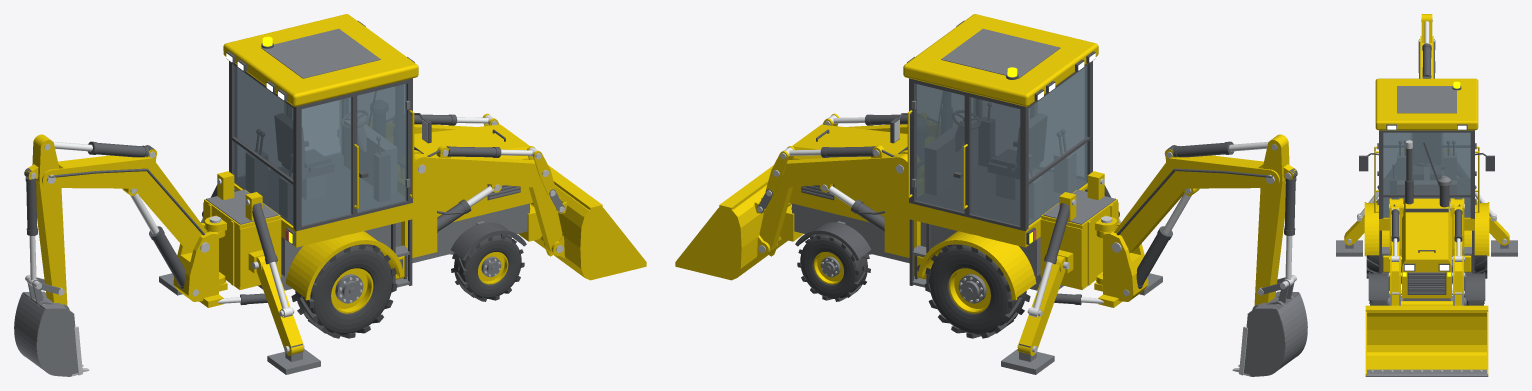
The model's file is Backhoe_Loader.glb.
3 renders of one model, left to right at view 1: azimuth 30°, elevation 25°; view 2: azimuth 150°, elevation 25°; view 3: azimuth 270°, elevation 25°, orthographic. The views are drawn at different scales.
Visible parts, largest first — view 1: rear_rim_L, steering_cylinder, cab_glass, rear_hub_L, rear_tyre_L, steering_cylinder_rods, rear_wheel_nuts_L; view 2: rear_rim_L, steering_cylinder, rear_hub_L, cab_glass, rear_tyre_L, steering_cylinder_rods, rear_wheel_nuts_L; view 3: rear_rim_L, steering_cylinder, rear_hub_L, cab_glass, rear_tyre_L, steering_cylinder_rods, rear_wheel_nuts_L, work_lights.
Part boxes in pixels (x1,y1,x2,y2): rear_rim_L: (24,14,646,355); steering_cylinder: (24,20,526,305); cab_glass: (234,65,406,265); rear_hub_L: (14,28,565,376); rear_tyre_L: (291,234,524,338); steering_cylinder_rods: (28,115,537,317); rear_wheel_nuts_L: (25,119,564,376); rear_rim_L: (675,14,1297,355); steering_cylinder: (795,20,1297,305); rear_hub_L: (756,28,1307,376); cab_glass: (915,65,1087,225); rear_tyre_L: (797,234,1030,338); steering_cylinder_rods: (784,115,1293,317); rear_wheel_nuts_L: (757,119,1296,376); rear_rim_L: (1344,14,1509,375); steering_cylinder: (1359,39,1494,300); rear_hub_L: (1336,86,1517,376); cab_glass: (1383,132,1470,217); rear_tyre_L: (1366,255,1487,305); steering_cylinder_rods: (1357,21,1496,290); rear_wheel_nuts_L: (1347,17,1506,371); work_lights: (1387,125,1466,270).
Size of the model in its own units: 178 by 76.21 by 68.
